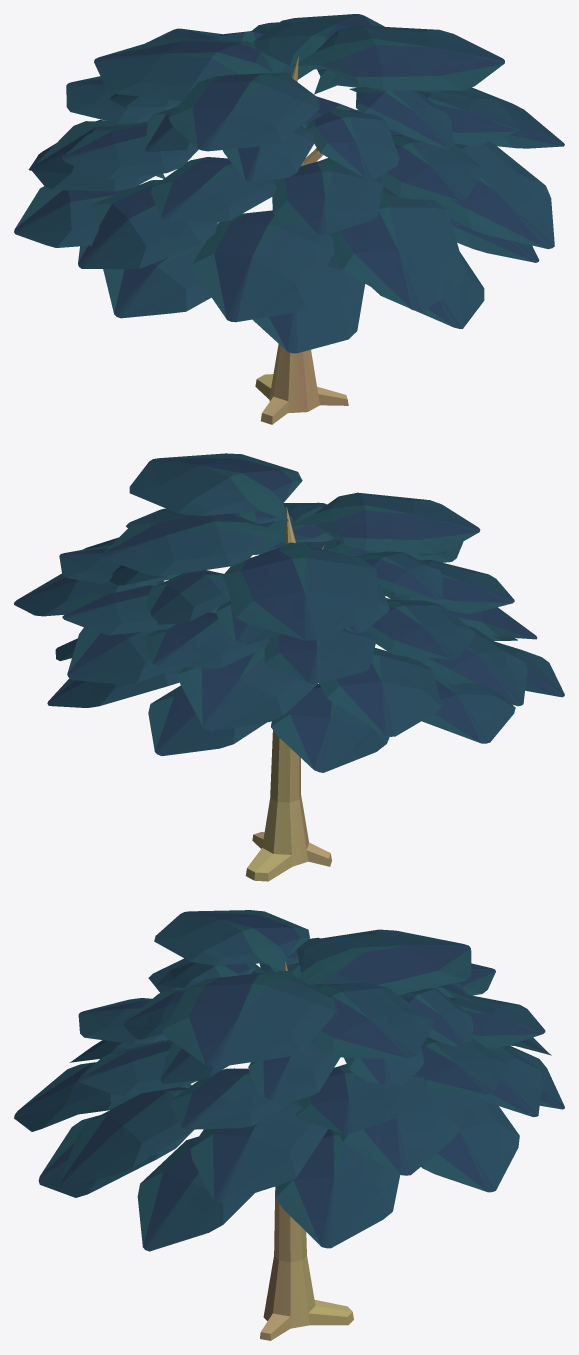
The model's file is Garden_HousePlant11.fbx.
3 views of the same model, one above another, from view 1: azimuth 30°, elevation 25°; view 2: azimuth 150°, elevation 25°; view 3: azimuth 270°, elevation 25° (orthographic). The views are drawn at different scales.
Visible parts, largest first — view 1: Cylinder.226; view 2: Cylinder.226; view 3: Cylinder.226.
Part boxes in pixels (box(x1,y1,x2,y2)): Cylinder.226: box(14, 14, 564, 424); Cylinder.226: box(14, 453, 564, 881); Cylinder.226: box(14, 910, 564, 1340).
Bounding box in the file's own units: 105 × 75.35 × 102.
